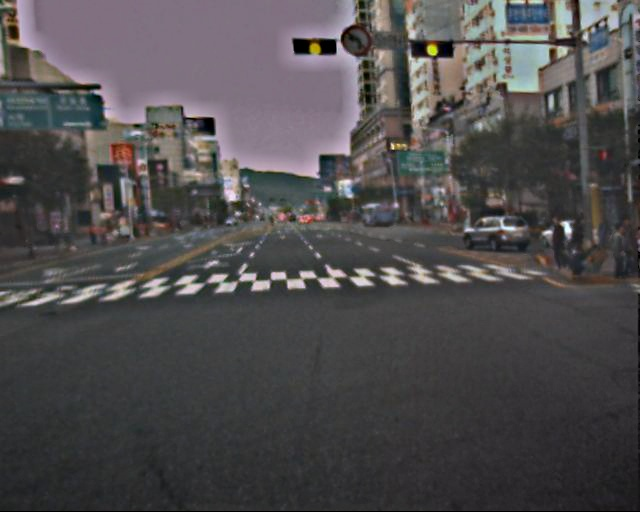person: (564, 213, 591, 283), (617, 215, 640, 281), (546, 210, 569, 270), (607, 224, 627, 285)
